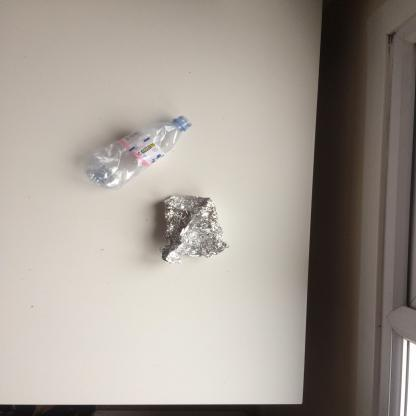metal: (158, 195, 230, 266)
plastic: (84, 115, 192, 190)
